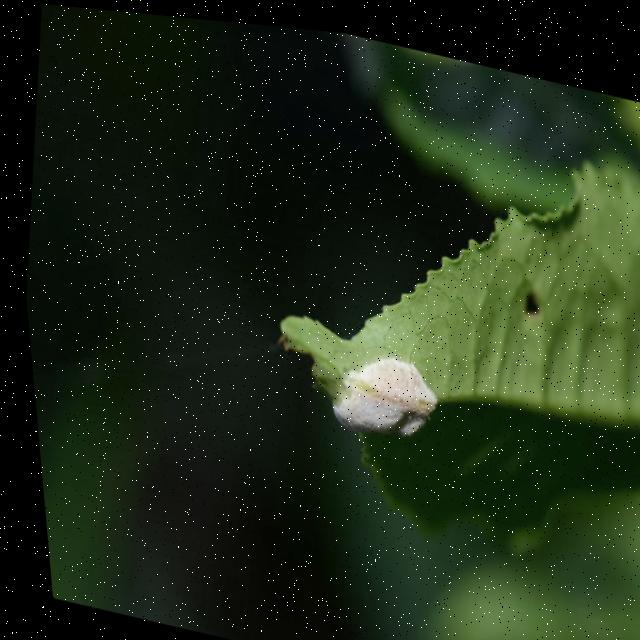Tea cake: (320, 331, 440, 448)
